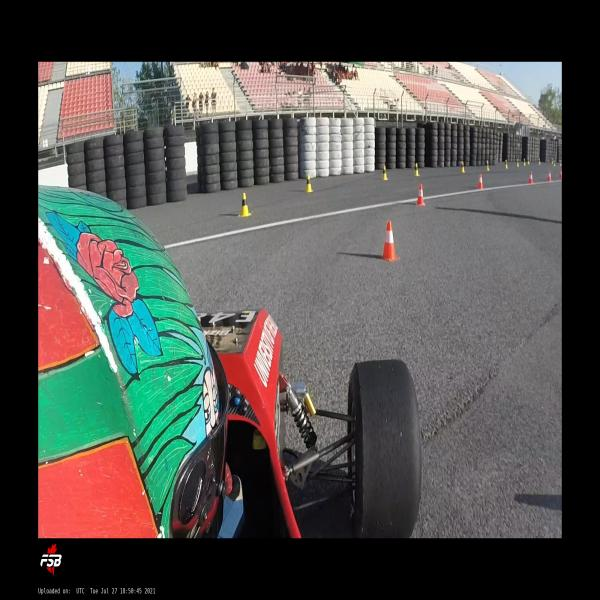orange_cone: (380, 222, 399, 261), (416, 184, 425, 206), (477, 173, 484, 190), (528, 171, 533, 185), (547, 170, 552, 182), (559, 169, 562, 179)
yellow_cone: (238, 193, 252, 216), (304, 174, 313, 193), (382, 166, 388, 180), (414, 163, 420, 176), (460, 161, 465, 173), (485, 161, 490, 171), (504, 160, 508, 169), (516, 159, 519, 167), (523, 158, 526, 166), (538, 158, 540, 165), (528, 159, 530, 164)
